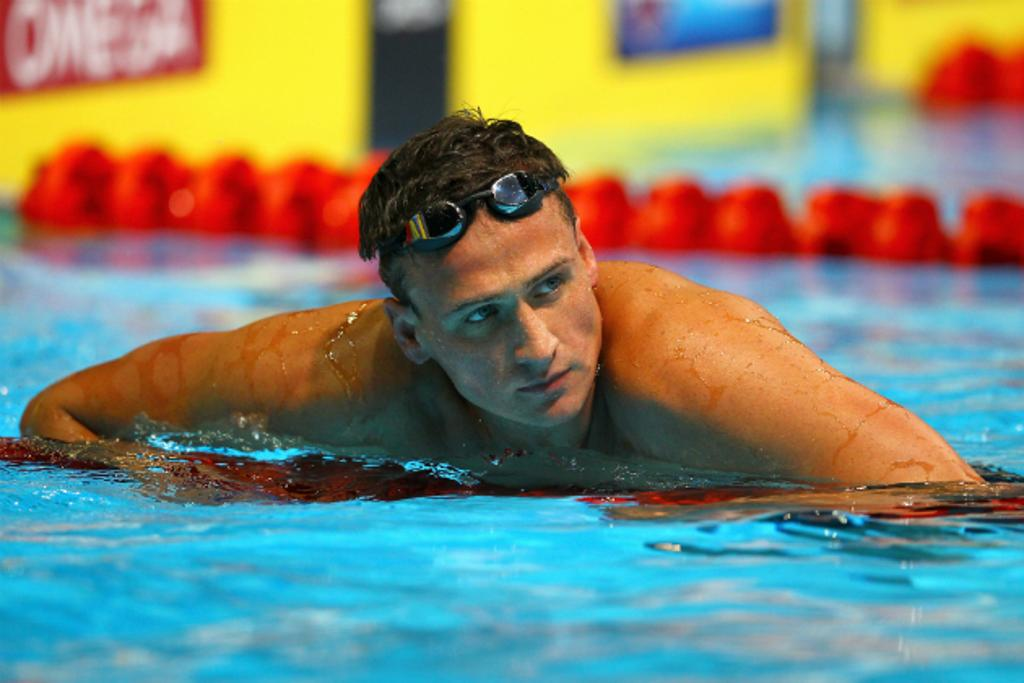face: (420, 222, 598, 428)
